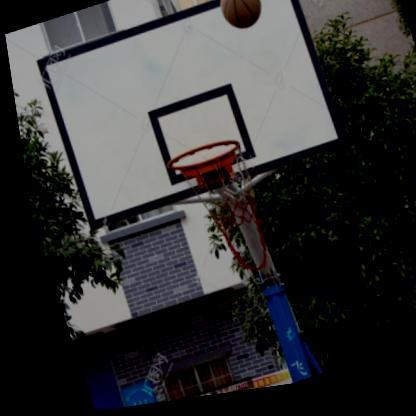basketball: (211, 0, 266, 40)
rim: (154, 130, 267, 256)
